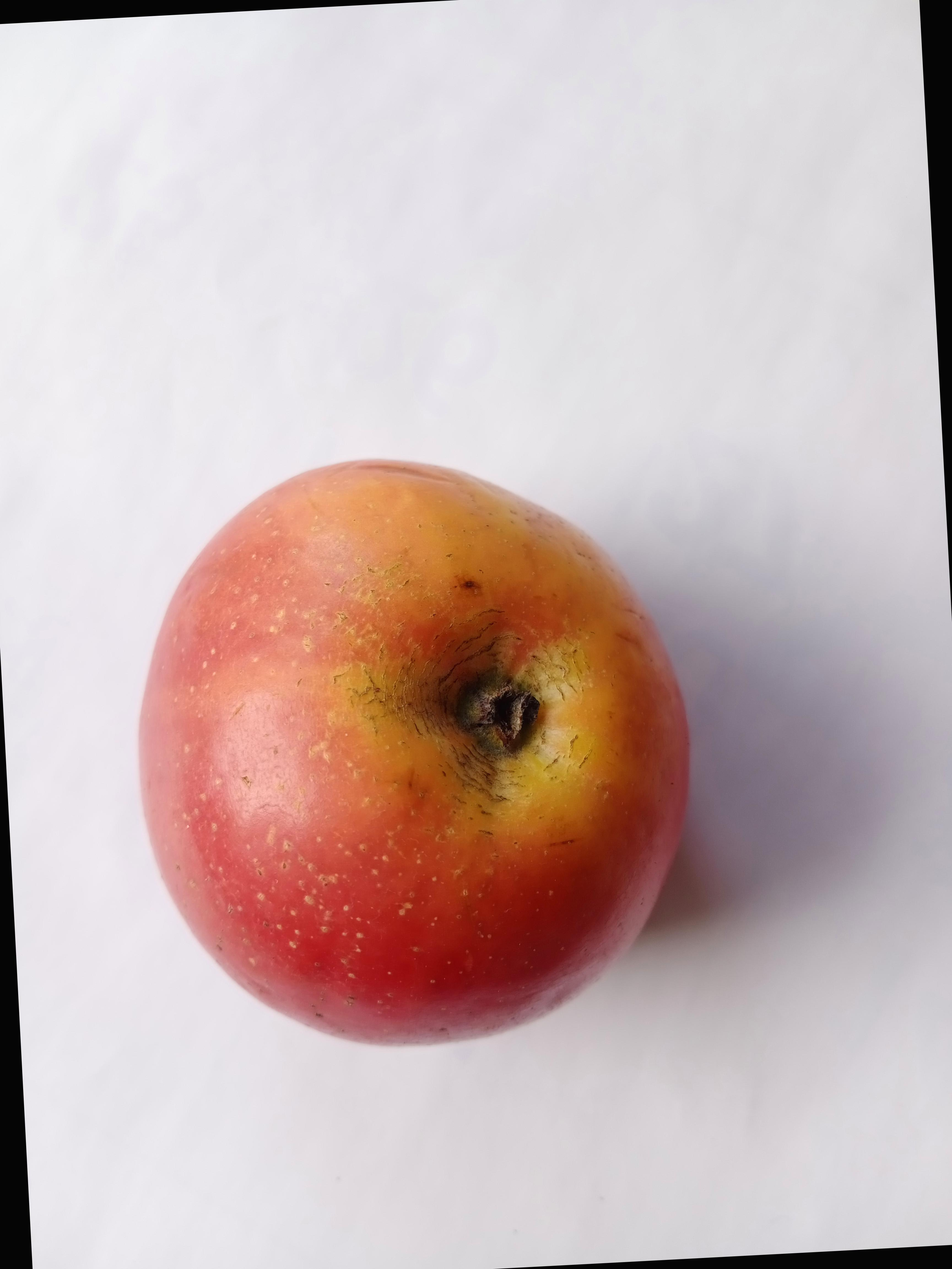Apple Ripe: (54, 453, 684, 1111)
